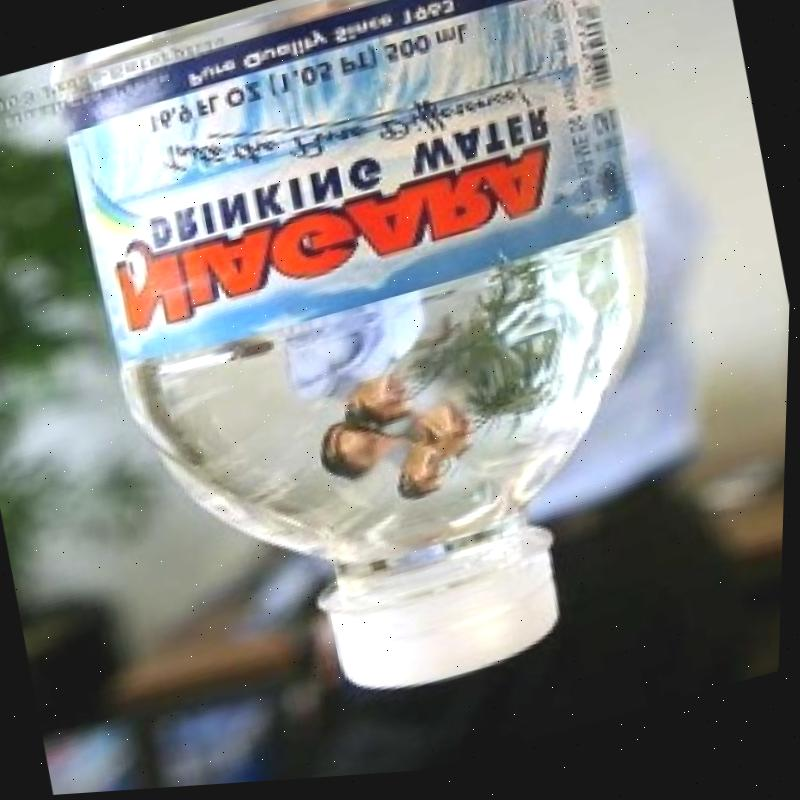botella: (27, 0, 737, 771)
